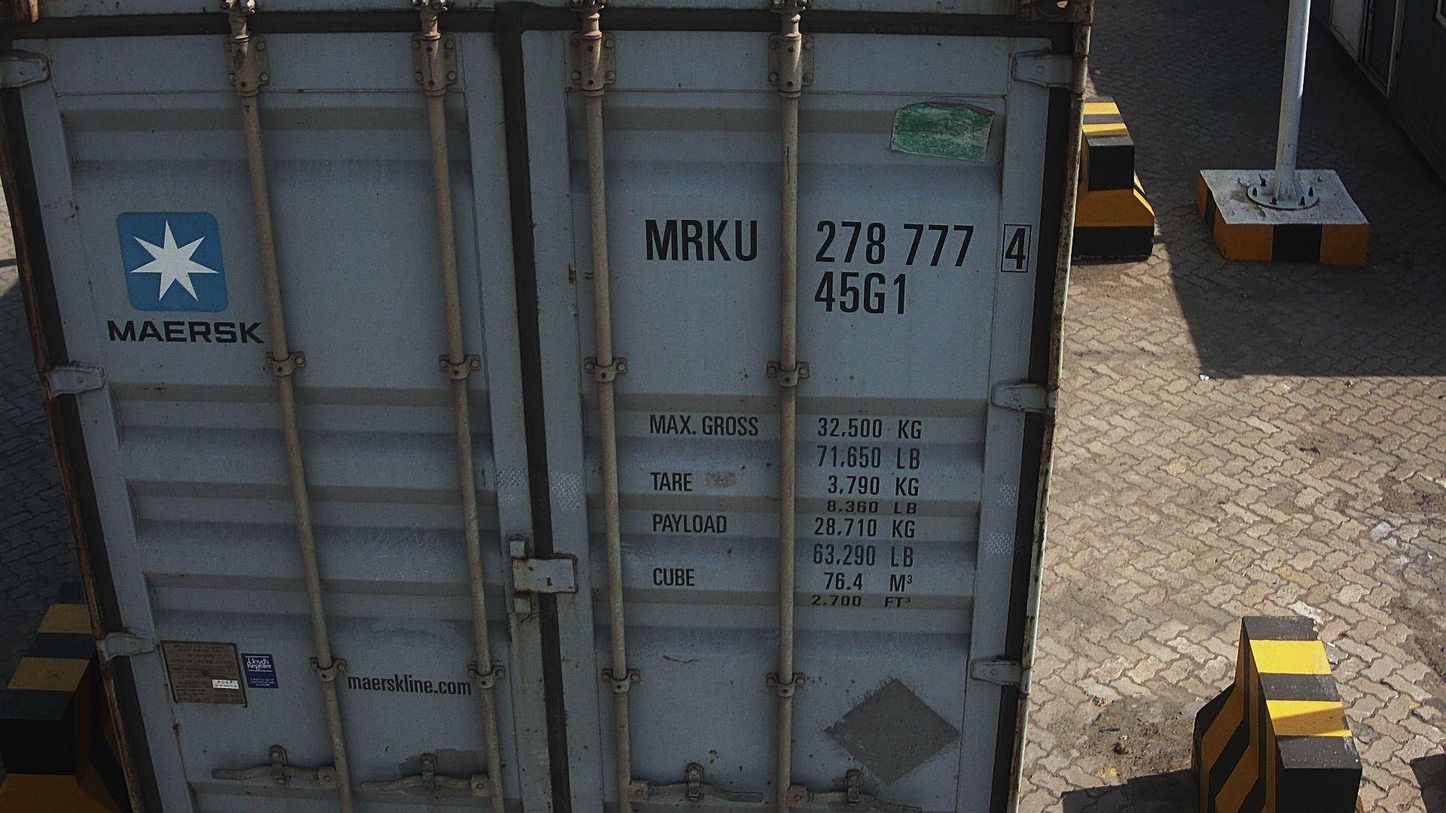container-numbers: (639, 214, 1038, 276), (810, 269, 912, 318)
